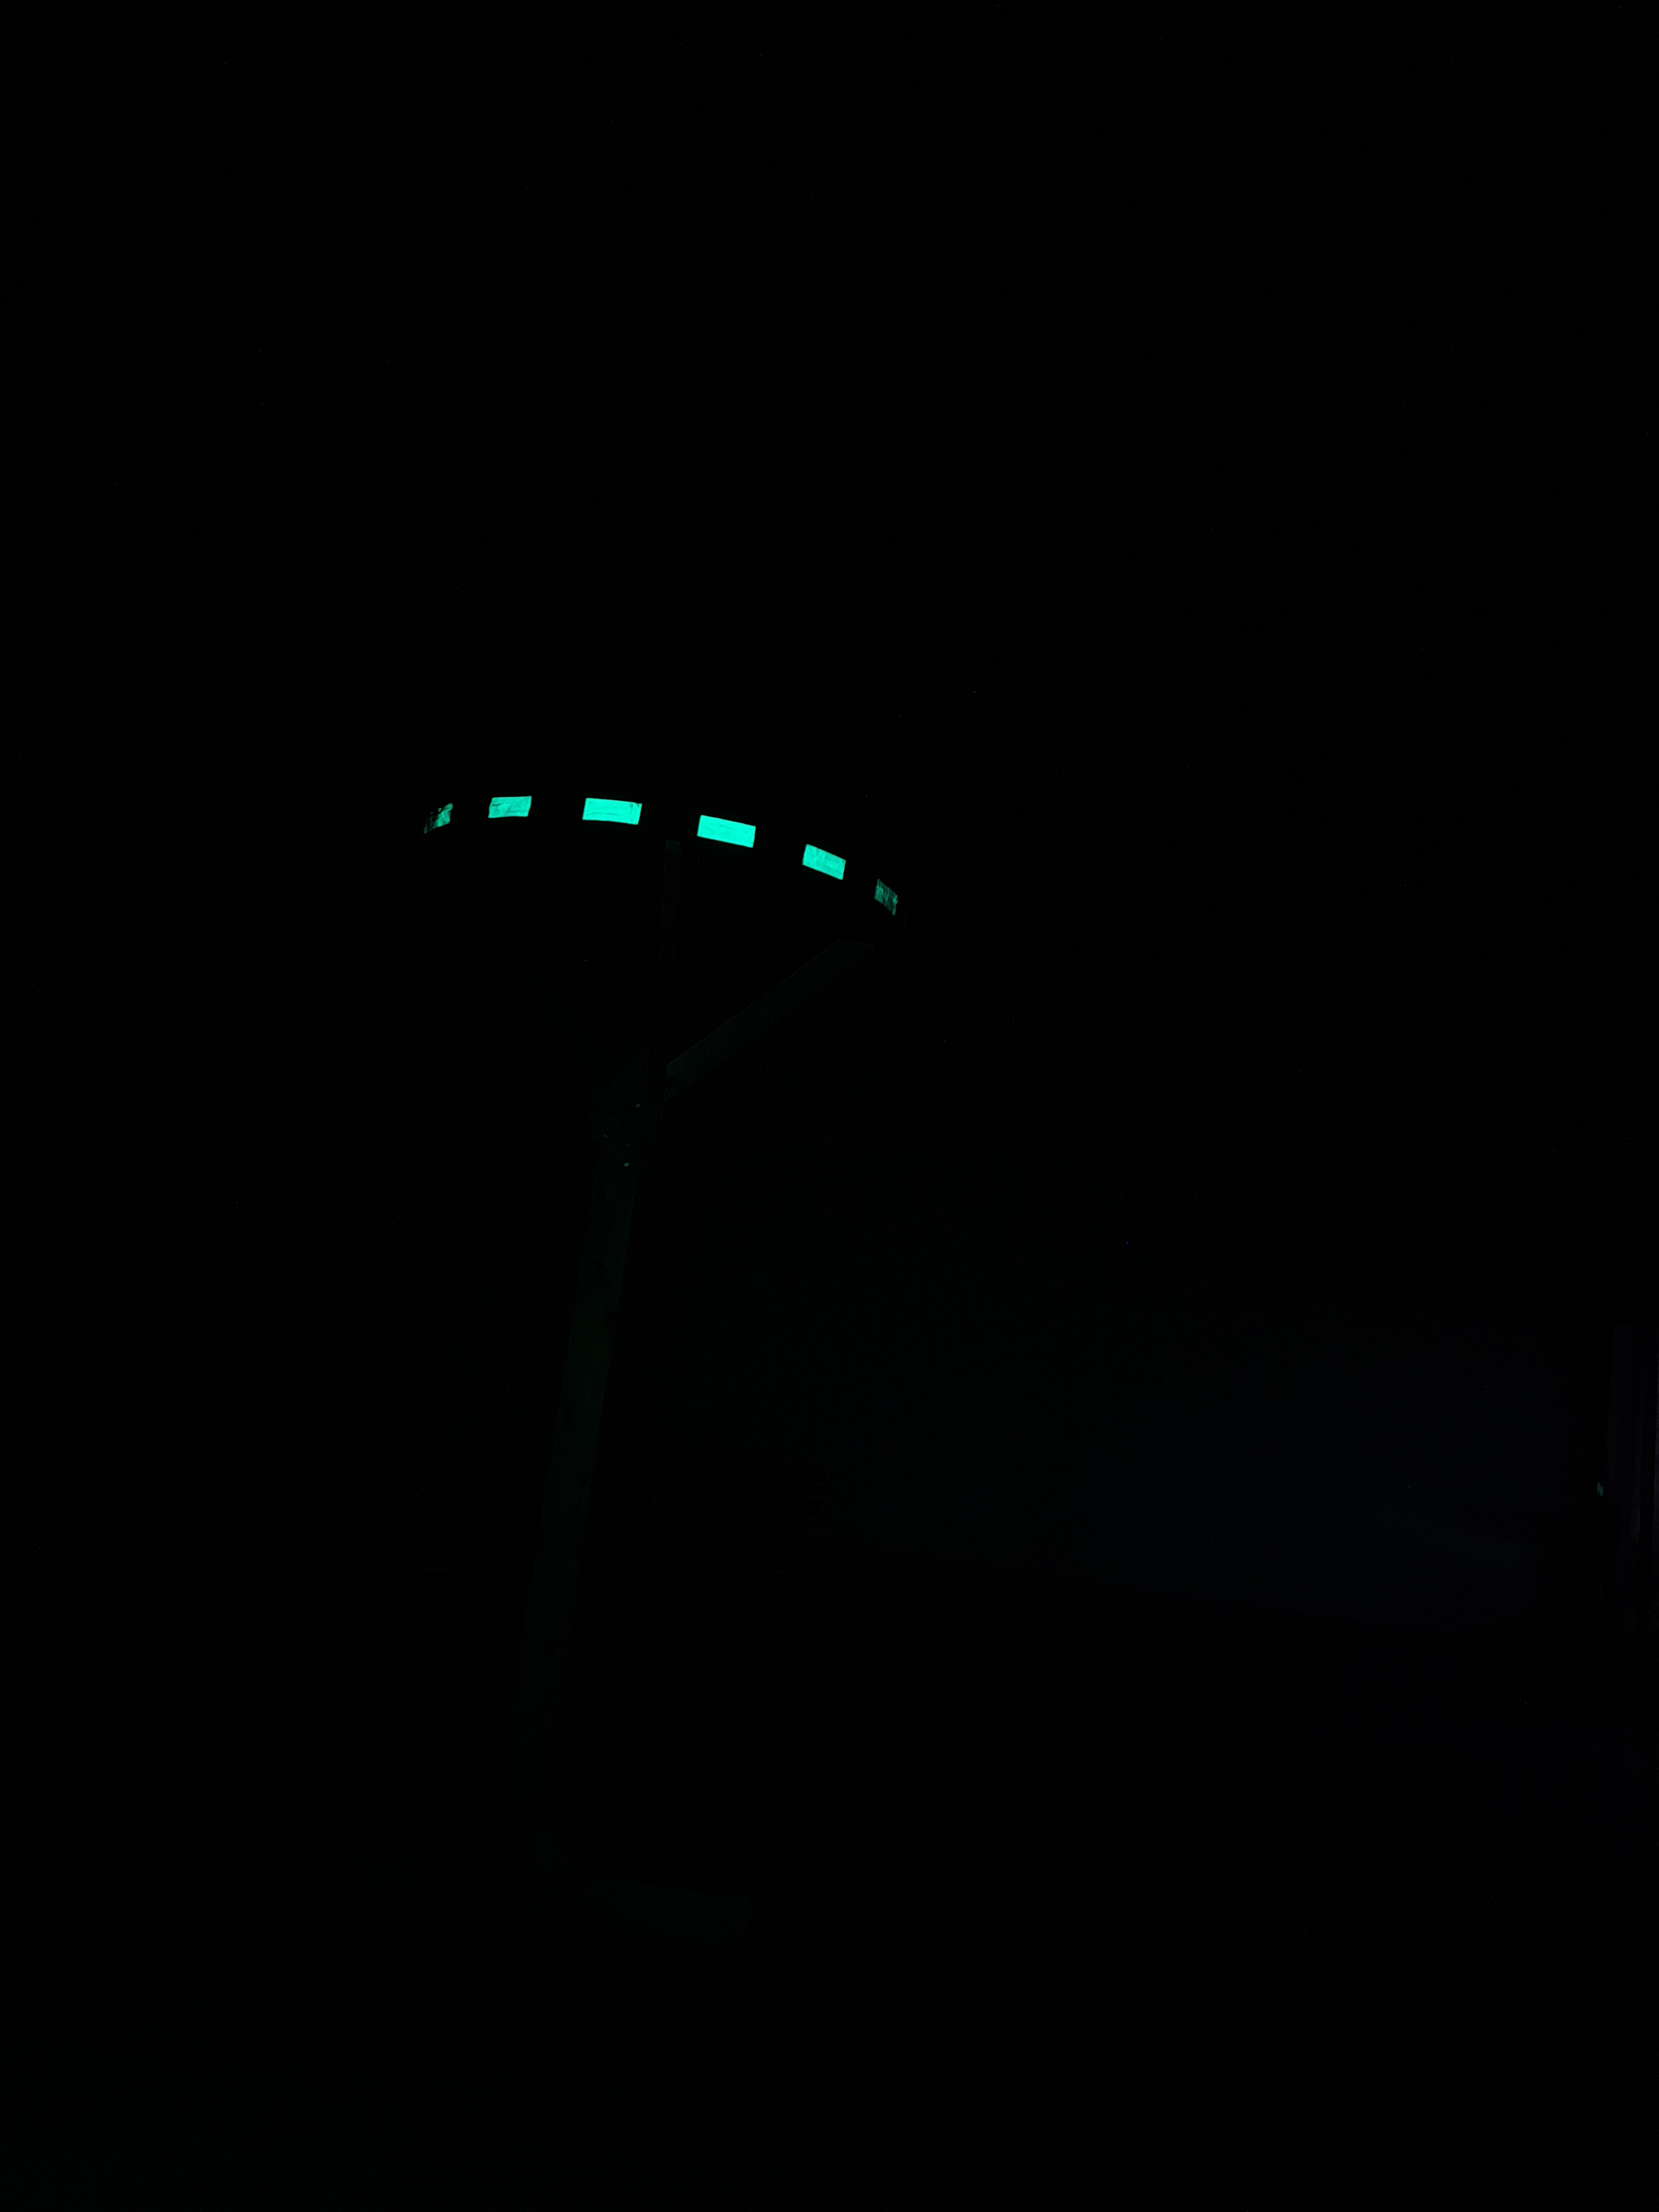hoop: (416, 773, 908, 928)
